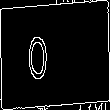O_N: (45, 29, 65, 81)
